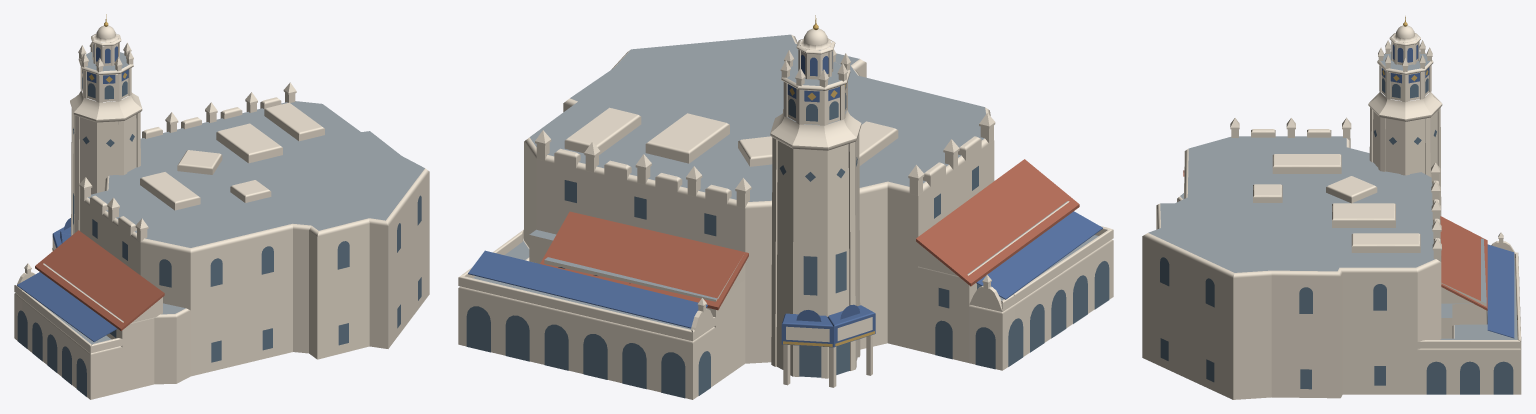
Rendered from dlr-carthay-circle.glb.
3 renders of one model, left to right at view 1: azimuth 30°, elevation 25°; view 2: azimuth 150°, elevation 25°; view 3: azimuth 270°, elevation 25°, orthographic. The views are drawn at different scales.
Parts seen in each view (by area): view 1: Carthay Circle Theatre; view 2: Carthay Circle Theatre; view 3: Carthay Circle Theatre.
Part boxes in pixels (x1,y1,x2,y2): Carthay Circle Theatre: (14,14,429,399); Carthay Circle Theatre: (458,15,1113,399); Carthay Circle Theatre: (1142,16,1521,399).
Bounding box in the file's own units: 42.01 × 30.38 × 38.43.
